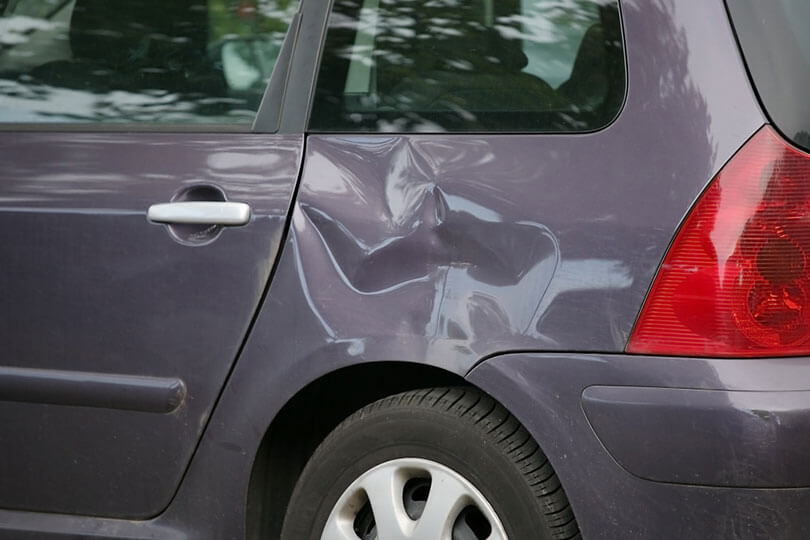car_dent: (290, 175, 580, 367)
